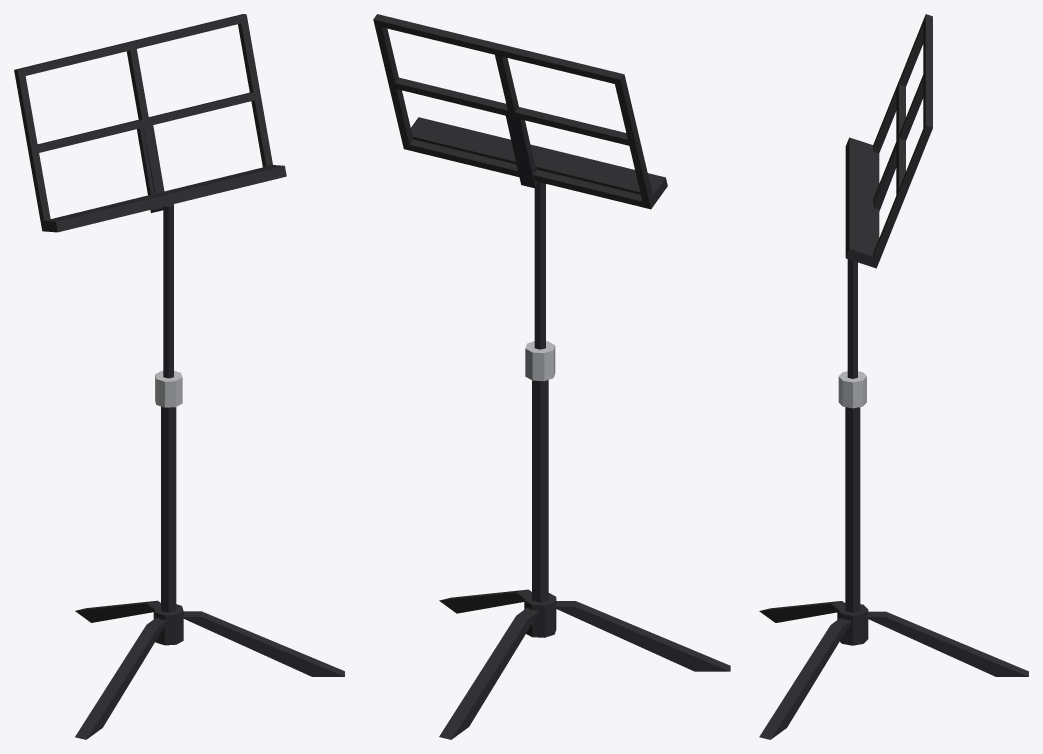
The model's file is FN_Stand_Music.obj.
3 views of the same model, side by side, from view 1: azimuth 30°, elevation 25°; view 2: azimuth 150°, elevation 25°; view 3: azimuth 270°, elevation 25° (orthographic). The views are drawn at different scales.
Parts seen in each view (by area): view 1: FN_Stand_Music; view 2: FN_Stand_Music; view 3: FN_Stand_Music.
Part boxes in pixels (left/top/right/bottom): FN_Stand_Music: left=14, top=14, right=344, bottom=739; FN_Stand_Music: left=373, top=14, right=730, bottom=739; FN_Stand_Music: left=759, top=14, right=1028, bottom=739.
Bounding box in the file's own units: 0.5663 × 1.21 × 0.4904.
Materials: 1 (1 with a texture image).
